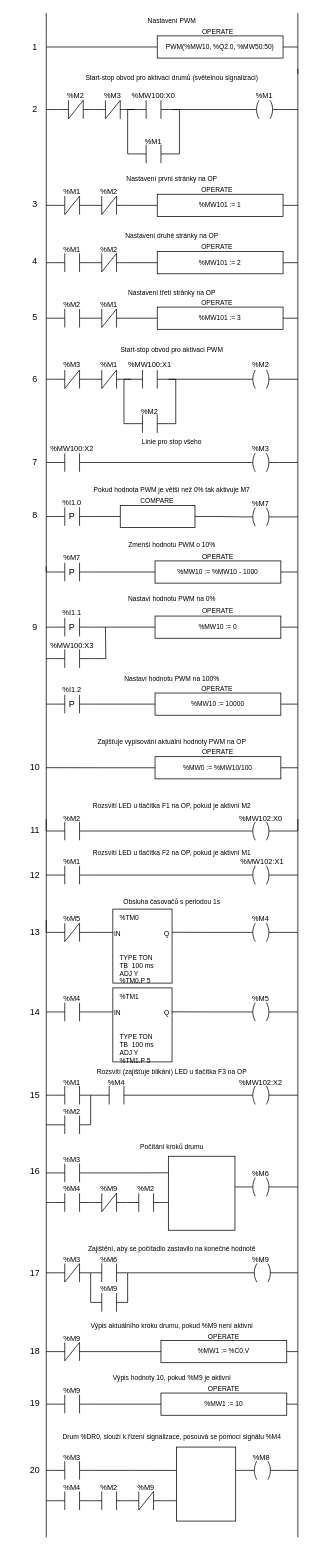
Some shapes in this 312 by 1551 pixel diagram are drawn without their labels. Each missing label, with the box of its shape:
%C0 R E S D C.P: 11 CU F MODIF: Y CD: (168, 1156, 235, 1230)
%DR0 R F U STEPS 11: (176, 1446, 236, 1521)
%MW10 > 0: (120, 505, 195, 528)
